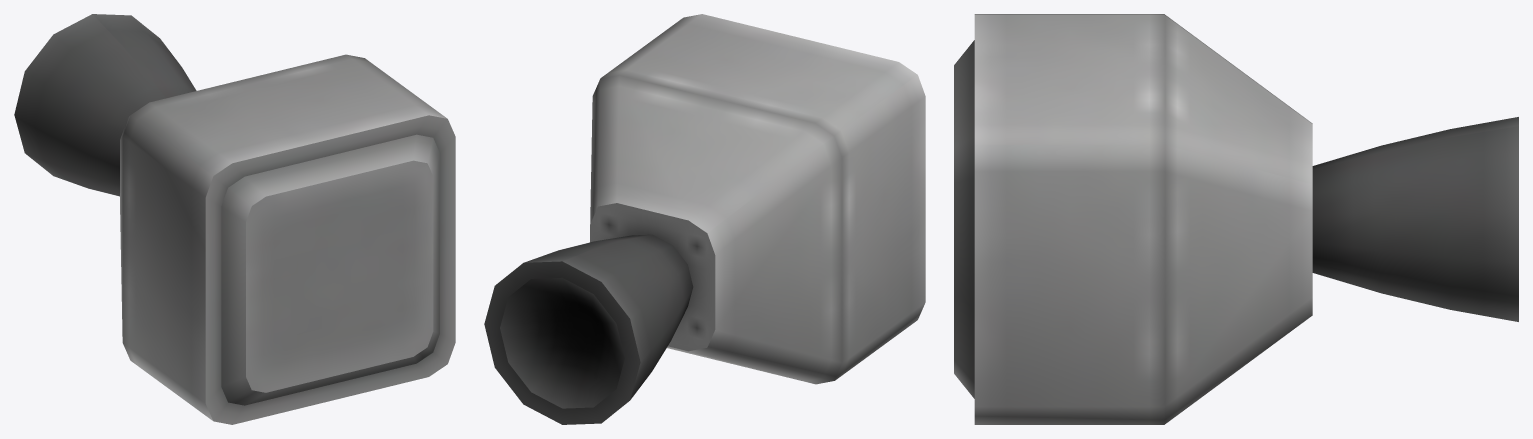
File: Tantares_RCS_5_E.obj
3 views of the same model, side by side, from view 1: azimuth 30°, elevation 25°; view 2: azimuth 150°, elevation 25°; view 3: azimuth 270°, elevation 25° (orthographic). The views are drawn at different scales.
Parts seen in each view (by area): view 1: Tantares_RCS_5_E; view 2: Tantares_RCS_5_E; view 3: Tantares_RCS_5_E.
Part boxes in pixels (box(x1,y1,x2,y2)): Tantares_RCS_5_E: box(14, 14, 455, 424); Tantares_RCS_5_E: box(484, 14, 925, 424); Tantares_RCS_5_E: box(954, 14, 1518, 424).
Size of the model in its own units: 0.1 by 0.1 by 0.1712.
